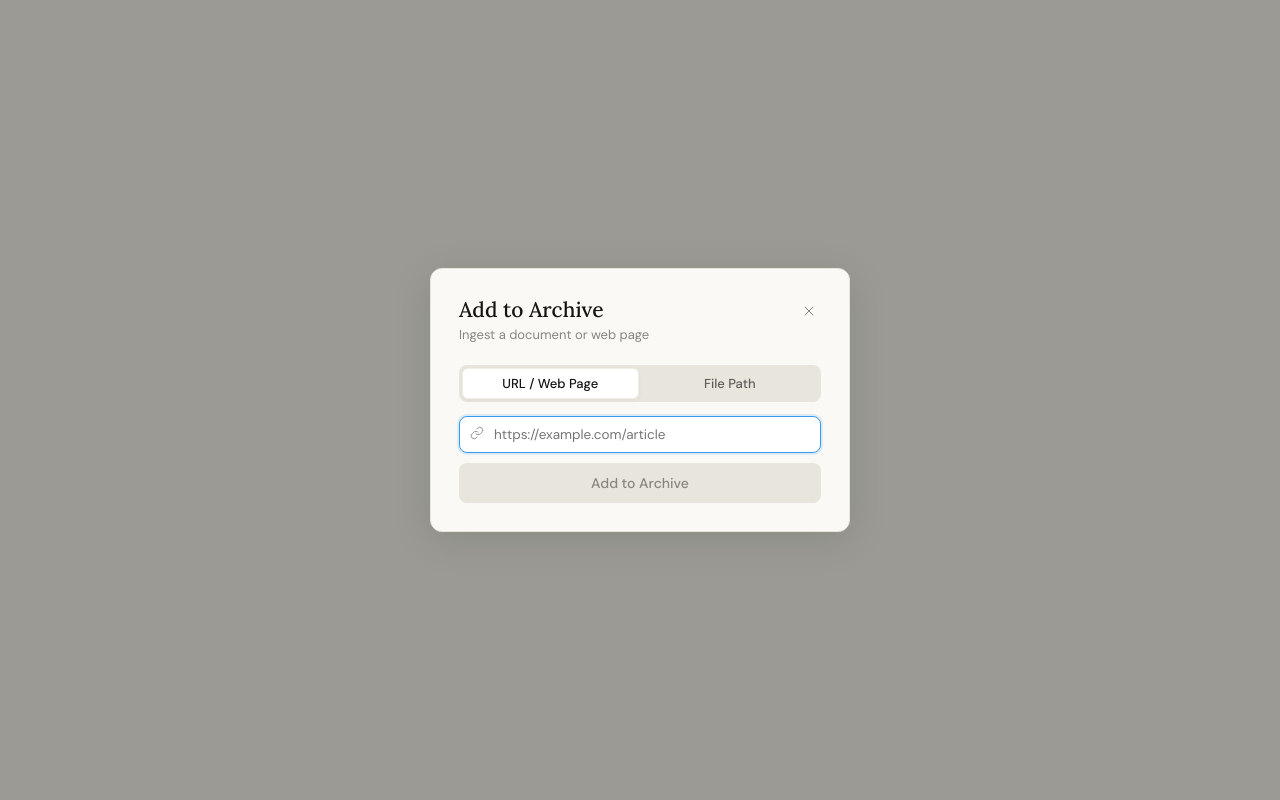
it: UploadModal › submit button enables when input has value
Type "https://example.com" into the field at {"x": 640, "y": 435}, box [459, 416, 821, 454]
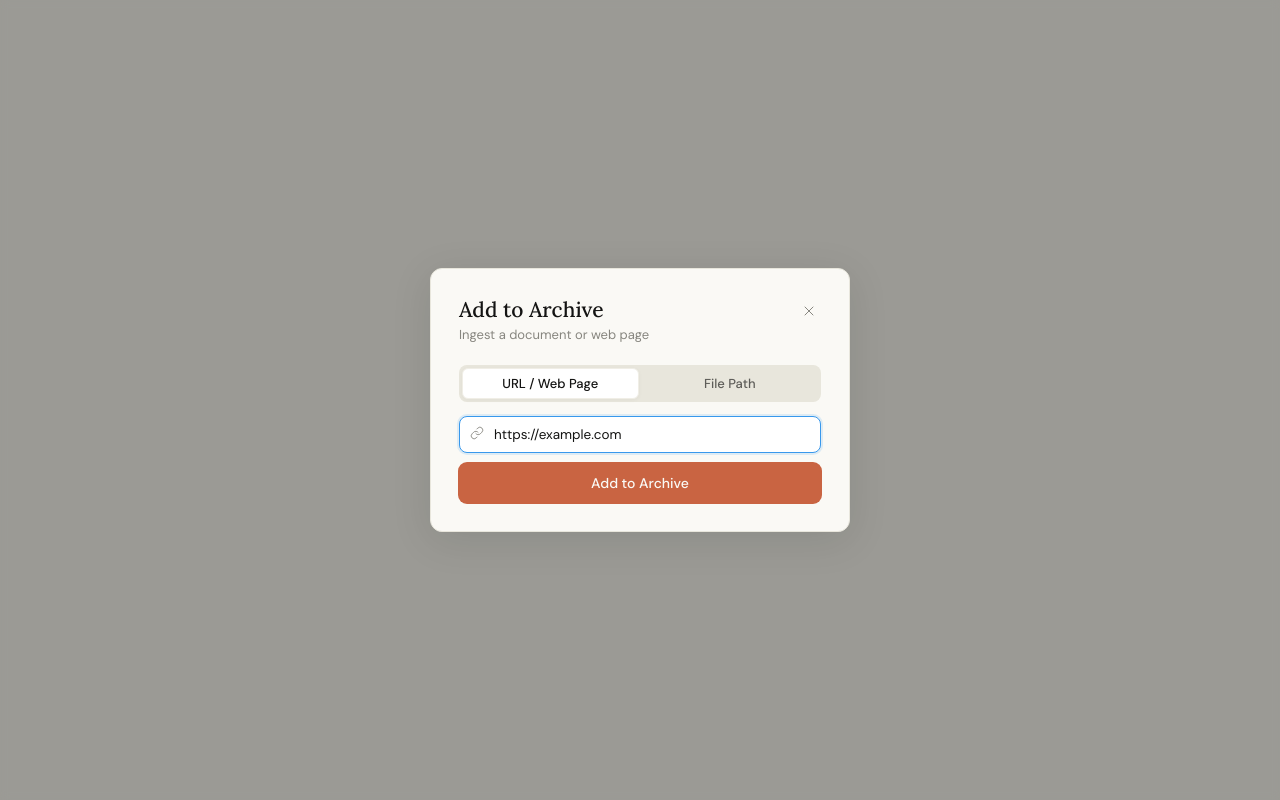
Now the button "Add to Archive" is enabled, box [459, 464, 821, 504]
